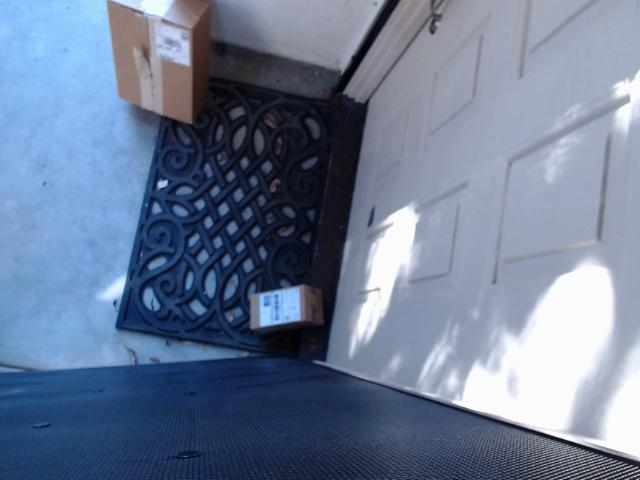box: (106, 0, 212, 125), (250, 283, 324, 335)
